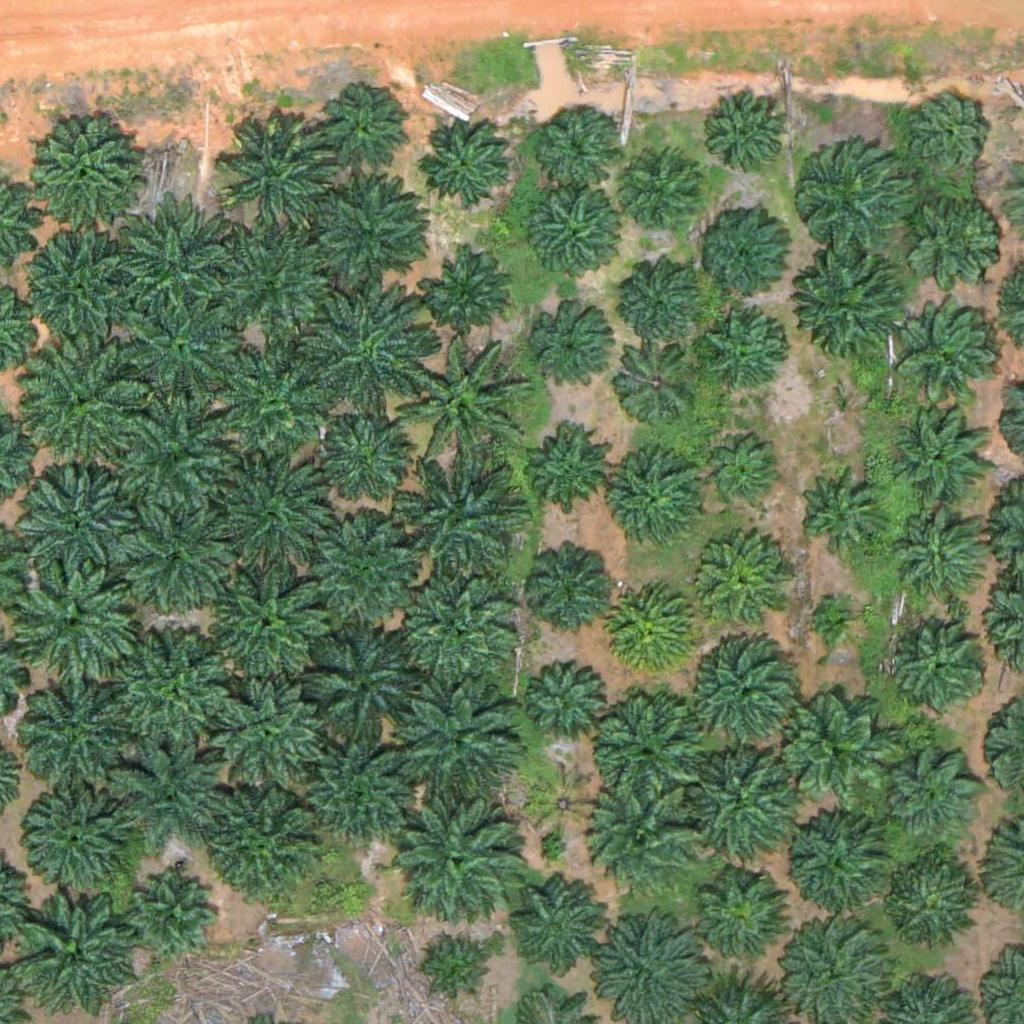Kelapa_Sawit: (217, 110, 342, 236), (209, 218, 334, 344), (214, 346, 339, 472), (214, 458, 339, 584), (208, 568, 333, 694), (202, 781, 327, 907), (112, 732, 237, 858), (108, 628, 233, 754), (115, 395, 240, 521), (120, 287, 245, 413), (114, 207, 239, 333), (18, 227, 143, 353), (17, 456, 142, 582), (13, 561, 138, 687), (11, 894, 136, 1020), (299, 289, 424, 415), (299, 515, 424, 641), (296, 622, 421, 748), (297, 731, 422, 857), (391, 686, 516, 812), (399, 798, 524, 924), (399, 458, 524, 584), (396, 342, 521, 468), (578, 774, 703, 900), (684, 630, 809, 756), (681, 746, 806, 872), (776, 686, 901, 812), (793, 136, 918, 262), (198, 666, 323, 791), (112, 498, 237, 623), (29, 338, 154, 463), (303, 168, 428, 293), (394, 561, 519, 686), (23, 113, 136, 227), (16, 685, 129, 798), (21, 788, 134, 901), (591, 688, 703, 802), (693, 868, 793, 969), (786, 813, 886, 914), (881, 751, 981, 852), (892, 616, 992, 717), (892, 512, 992, 613), (887, 406, 987, 507), (902, 303, 1002, 404), (805, 254, 905, 355), (504, 872, 604, 972), (609, 454, 709, 554), (906, 181, 1006, 281), (324, 414, 412, 502), (527, 193, 615, 281), (532, 308, 620, 396), (520, 420, 608, 508), (524, 537, 612, 625), (610, 585, 698, 673), (696, 543, 784, 631), (894, 865, 982, 953), (424, 246, 511, 335), (698, 209, 785, 298), (530, 101, 617, 189), (617, 255, 704, 343), (128, 868, 215, 956), (321, 91, 408, 179), (419, 117, 506, 205), (523, 656, 610, 744), (612, 336, 699, 424), (620, 147, 707, 235), (706, 90, 793, 178), (703, 317, 790, 405), (907, 94, 994, 182), (797, 467, 884, 555), (413, 933, 488, 1009), (708, 433, 783, 508), (530, 769, 592, 832), (810, 592, 860, 642)
